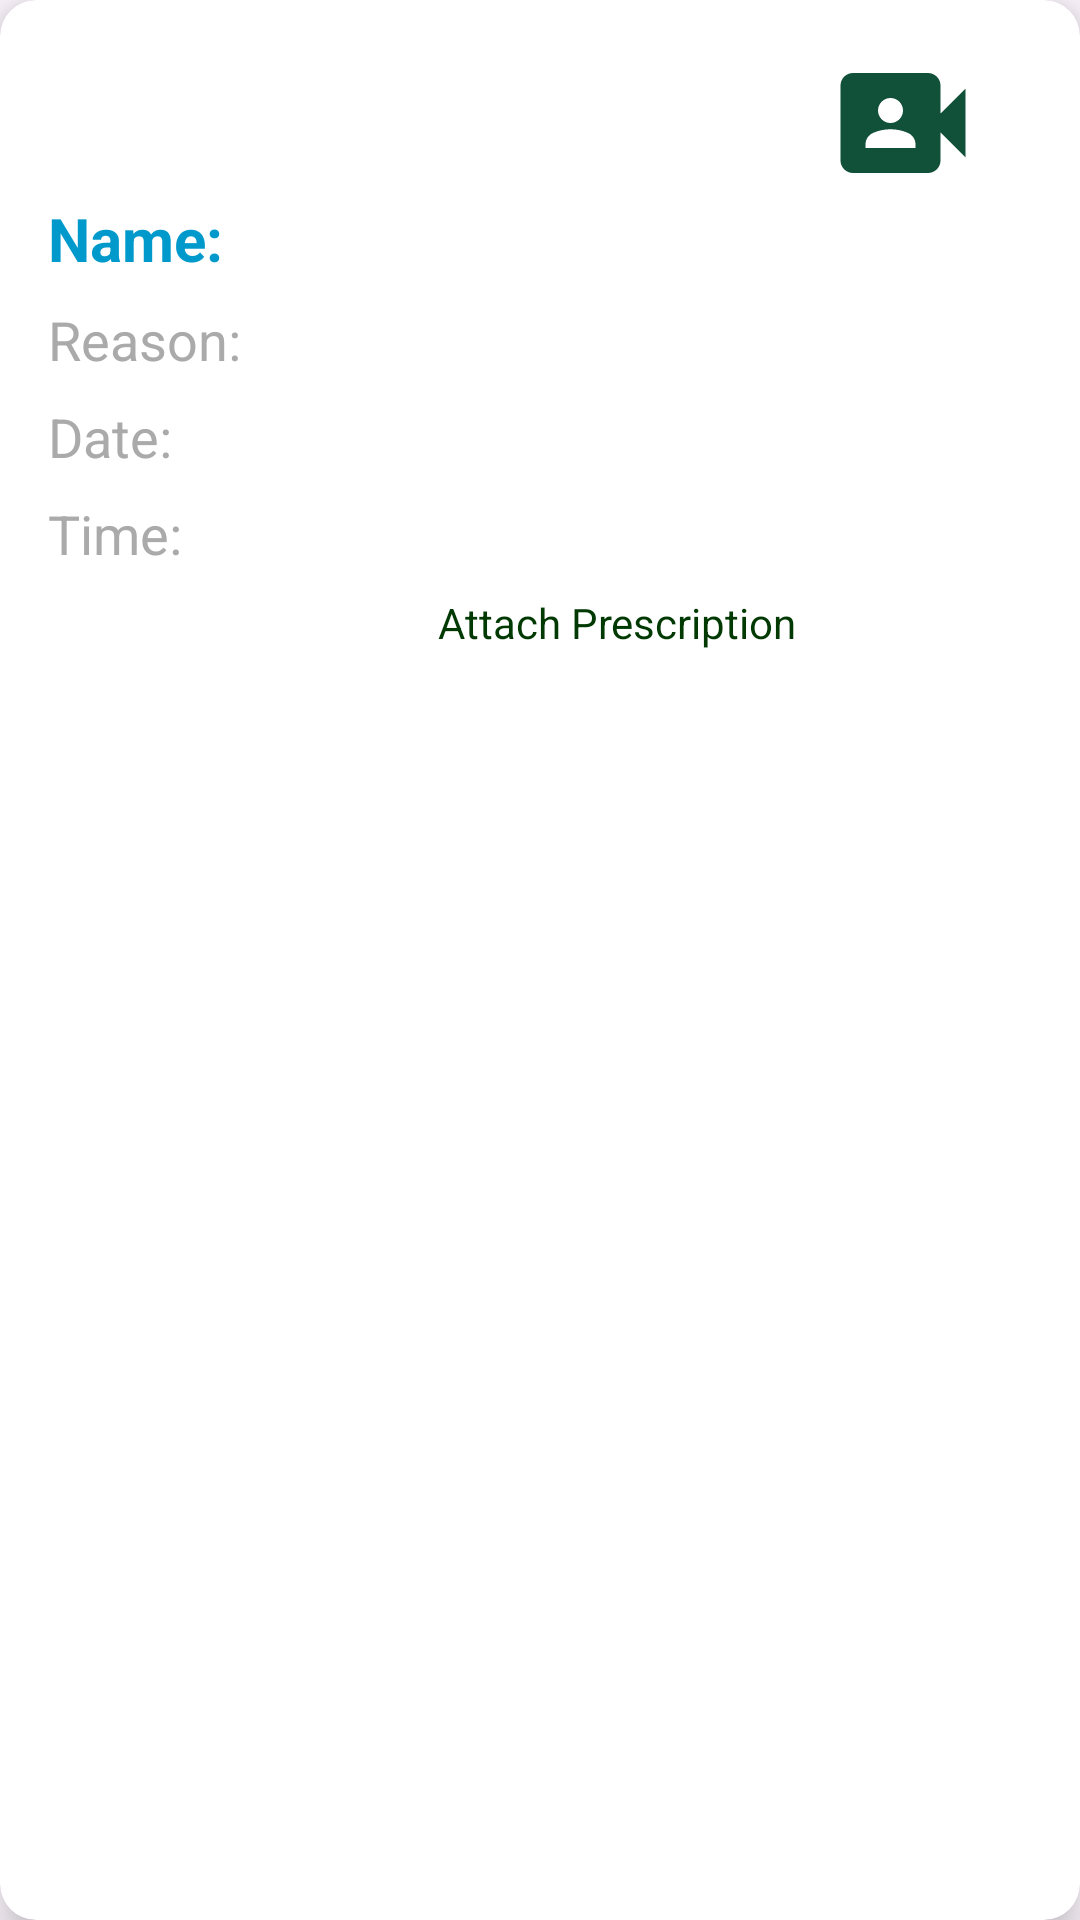

Where icons sit on this 1080 x 1920 app screen, as (x1,y1,x2,y2):
video camera front: (840,73,966,173)
